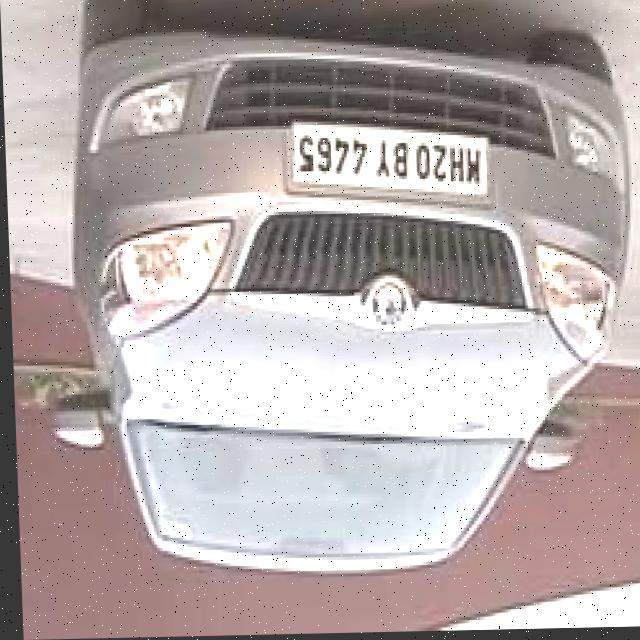plate: (289, 122, 487, 202)
